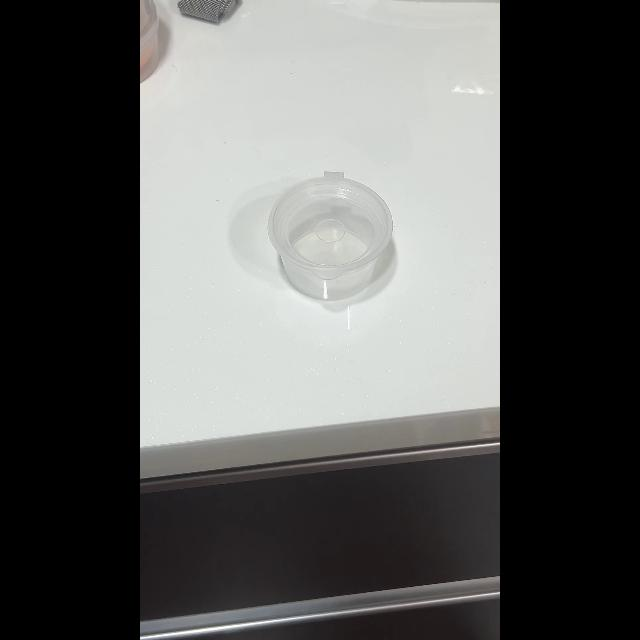clean: (278, 179, 399, 305)
